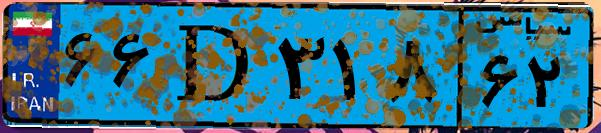1: (330, 28, 385, 110)
2: (525, 38, 570, 115)
3: (270, 28, 330, 110)
6: (57, 26, 110, 100), (475, 38, 525, 113), (110, 28, 158, 98)
8: (385, 28, 445, 110)
D: (158, 12, 270, 120)
